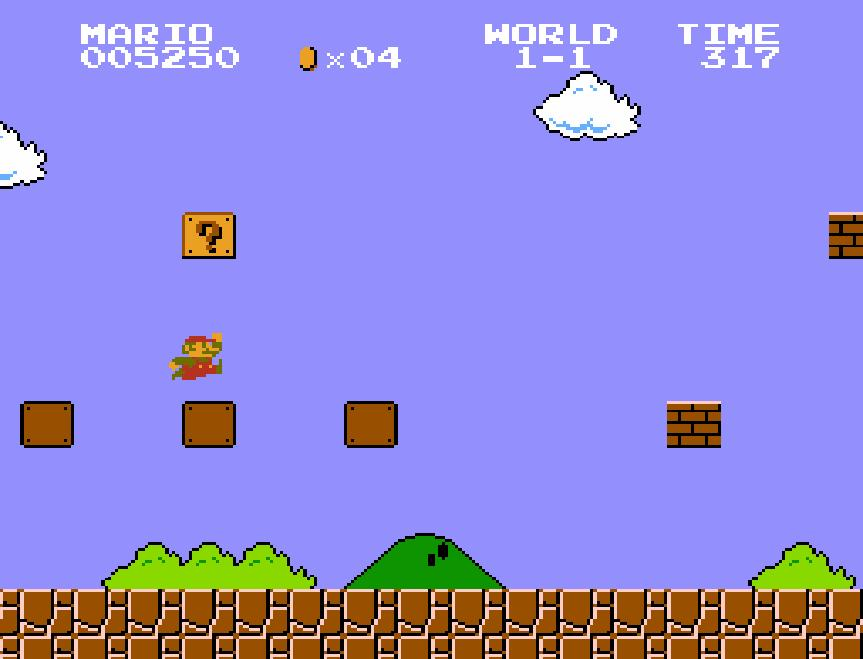little_mario: (166, 331, 224, 381)
